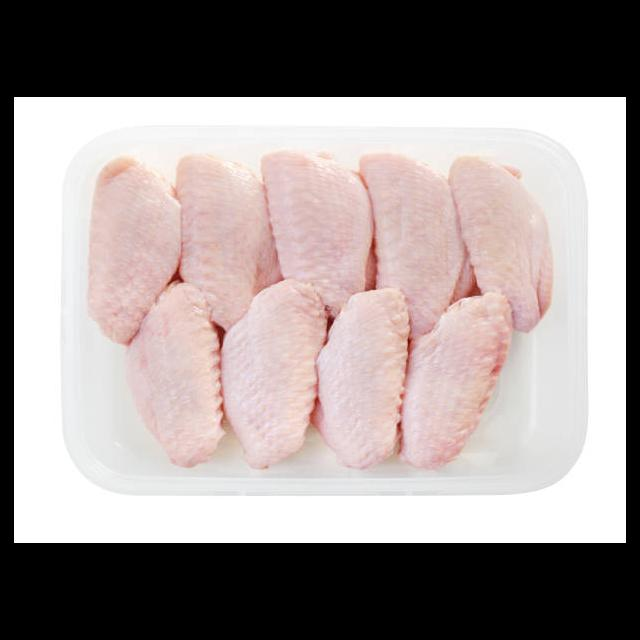chicken: (360, 152, 473, 344), (397, 289, 517, 468), (221, 277, 328, 465), (260, 150, 380, 314), (177, 152, 280, 335), (126, 280, 225, 470), (87, 159, 185, 346), (450, 158, 553, 333), (313, 287, 410, 470)
